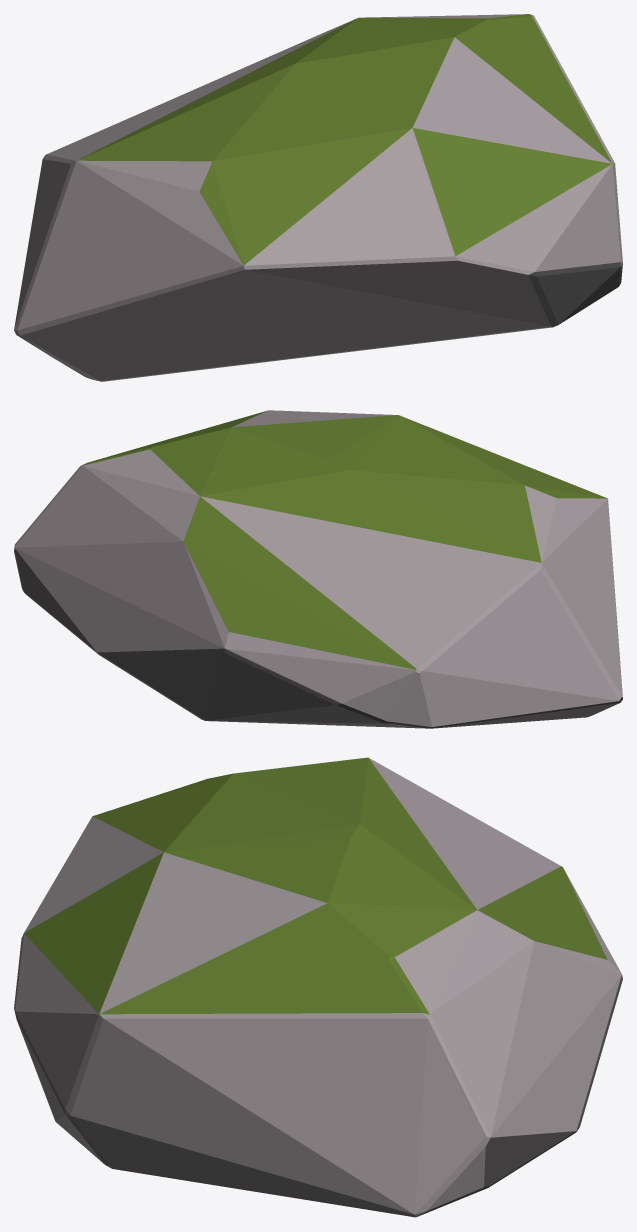
The model's file is shore_stone_sub_b.glb.
The picture shows the model from 3 angles, top to bottom: view 1: azimuth 30°, elevation 25°; view 2: azimuth 150°, elevation 25°; view 3: azimuth 270°, elevation 25°; orthographic projection. The views are drawn at different scales.
Parts seen in each view (by area): view 1: stone_dry, moss_wet, stone_wet; view 2: stone_dry, moss_wet, stone_wet; view 3: stone_dry, moss_wet, stone_wet.
Part boxes in pixels (left/top/right/bottom): stone_dry: left=14, top=14, right=622, bottom=381; moss_wet: left=77, top=14, right=612, bottom=265; stone_wet: left=14, top=262, right=622, bottom=381; stone_dry: left=14, top=410, right=622, bottom=726; moss_wet: left=83, top=411, right=607, bottom=669; stone_wet: left=14, top=548, right=622, bottom=728; stone_dry: left=14, top=758, right=621, bottom=1216; moss_wet: left=24, top=757, right=607, bottom=1014; stone_wet: left=14, top=975, right=622, bottom=1217.
Size of the model in its own units: 1.17 by 0.4276 by 0.8674.
